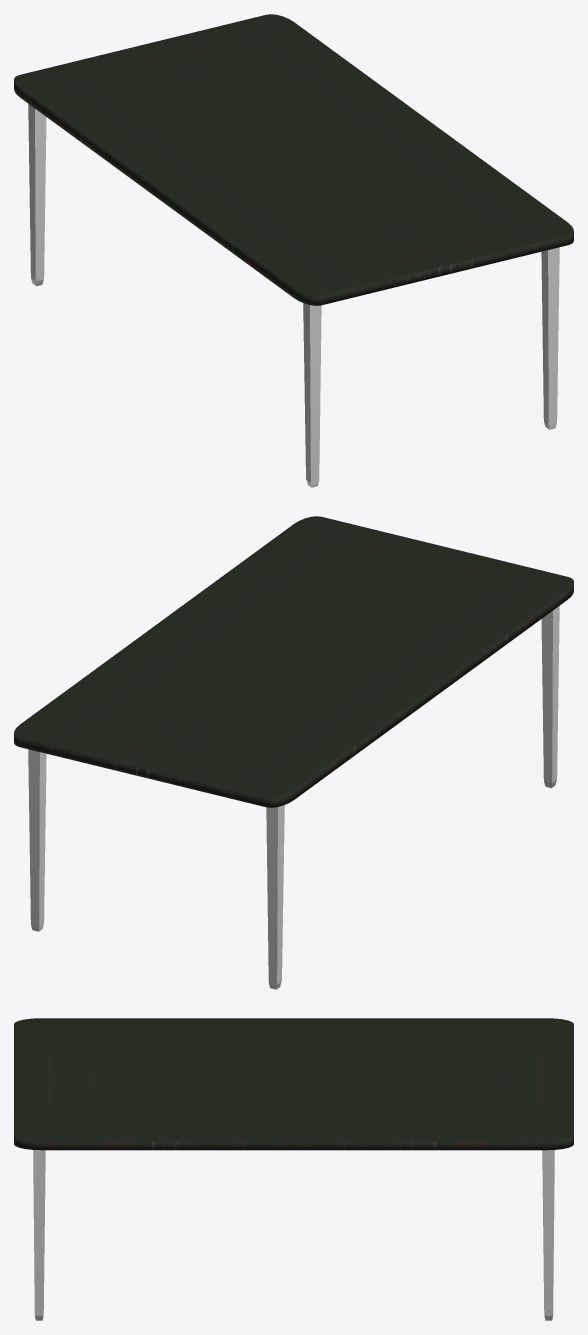
The picture shows the model from 3 angles, top to bottom: view 1: azimuth 30°, elevation 25°; view 2: azimuth 150°, elevation 25°; view 3: azimuth 270°, elevation 25°; orthographic projection. The views are drawn at different scales.
Parts seen in each view (by area): view 1: Table.001; view 2: Table.001; view 3: Table.001.
Boxes of the visible parts, x1=… form: Table.001: x1=14, y1=14, x2=573, y2=487; Table.001: x1=14, y1=516, x2=573, y2=989; Table.001: x1=14, y1=1018, x2=573, y2=1320.
Size of the model in its own units: 4.6 by 8.8 by 3.23.
Materials: 2 (1 with a texture image).
